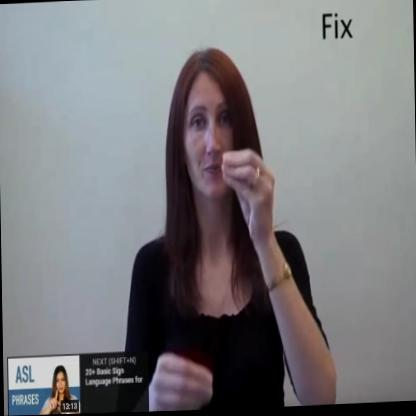Fix: (135, 146, 283, 413)
